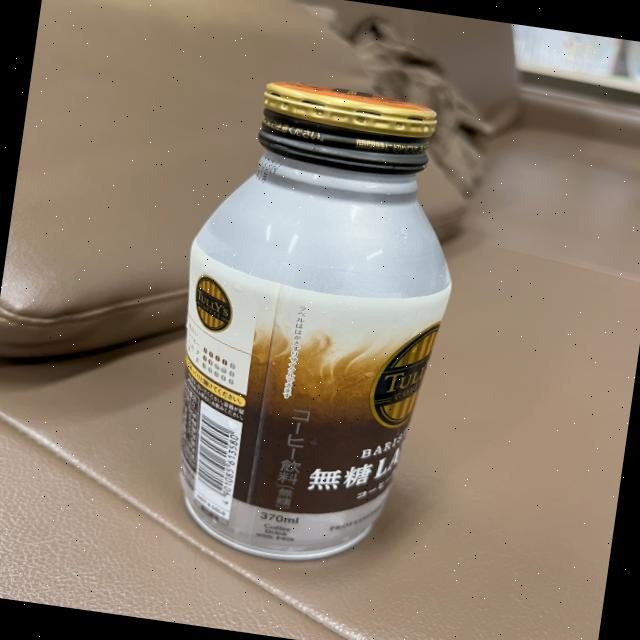coffee-latte: (150, 70, 482, 580)
